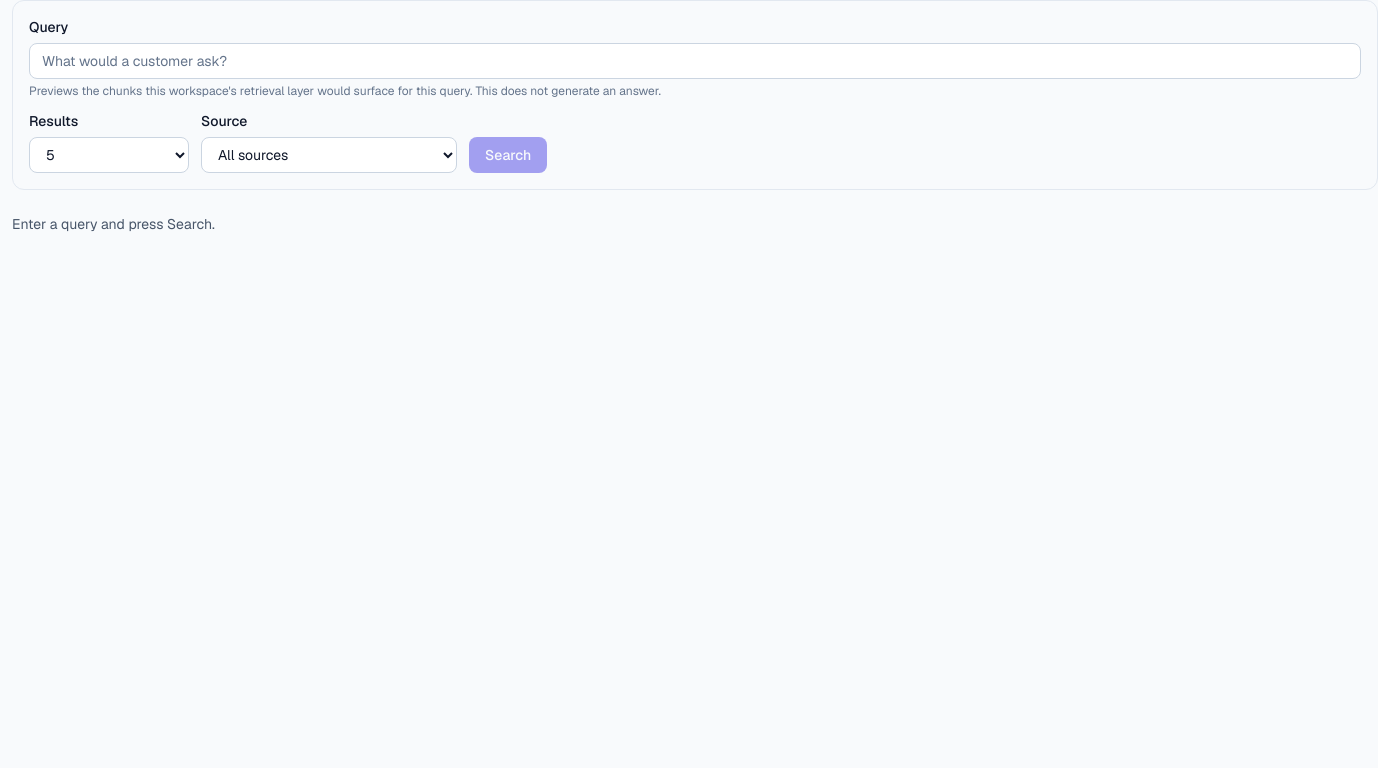
it: KnowledgeSearchPanel › result relations › makes exactly one request regardless of how many hits come back — no per-hit fetch
Step 1. Type "refund" into the search field labelled "Query" → {"x": 695, "y": 61}, box x1=29 y1=43 x2=1361 y2=79
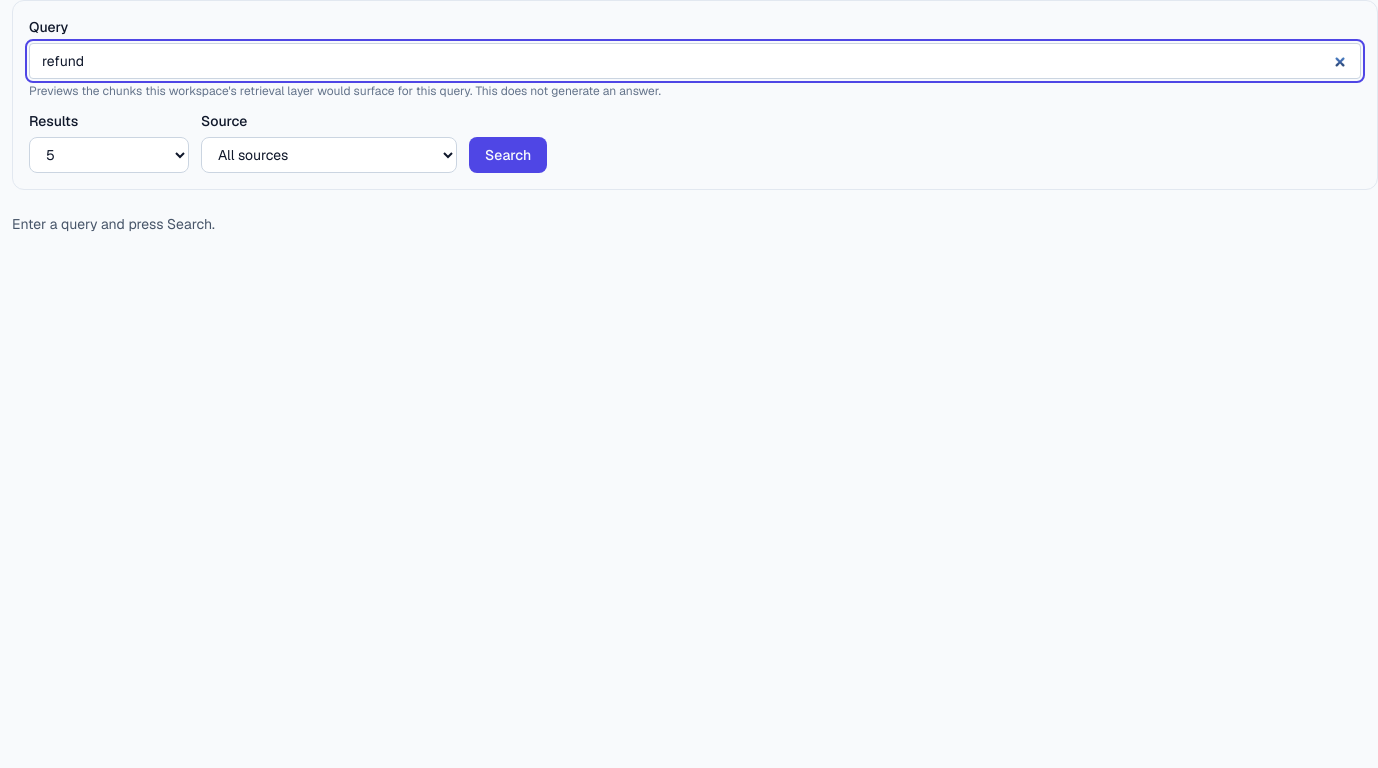
Step 2. Click the button "Search" → {"x": 508, "y": 155}, box x1=469 y1=137 x2=547 y2=173
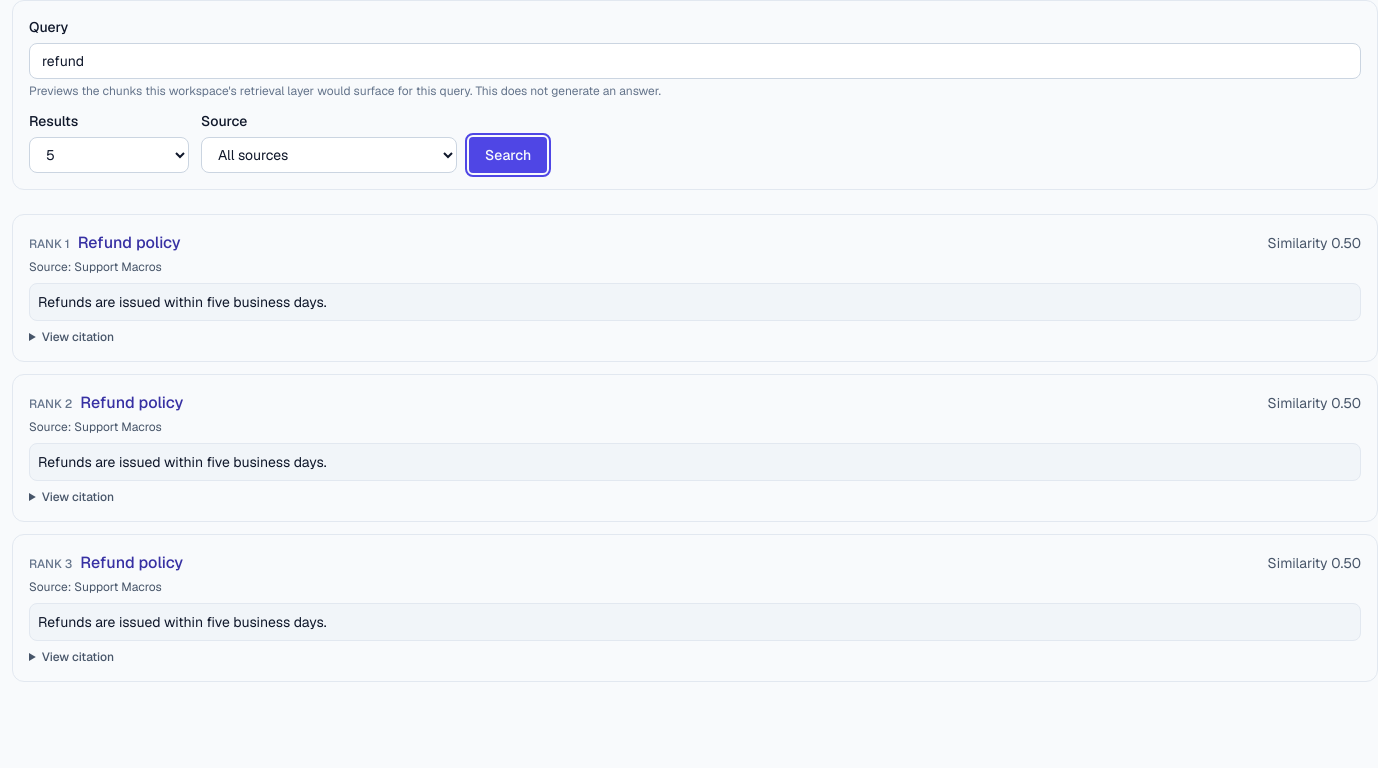
Expected: the number of list items is 3, x1=12 y1=214 x2=1377 y2=362; x1=12 y1=374 x2=1377 y2=522; x1=12 y1=534 x2=1377 y2=682
